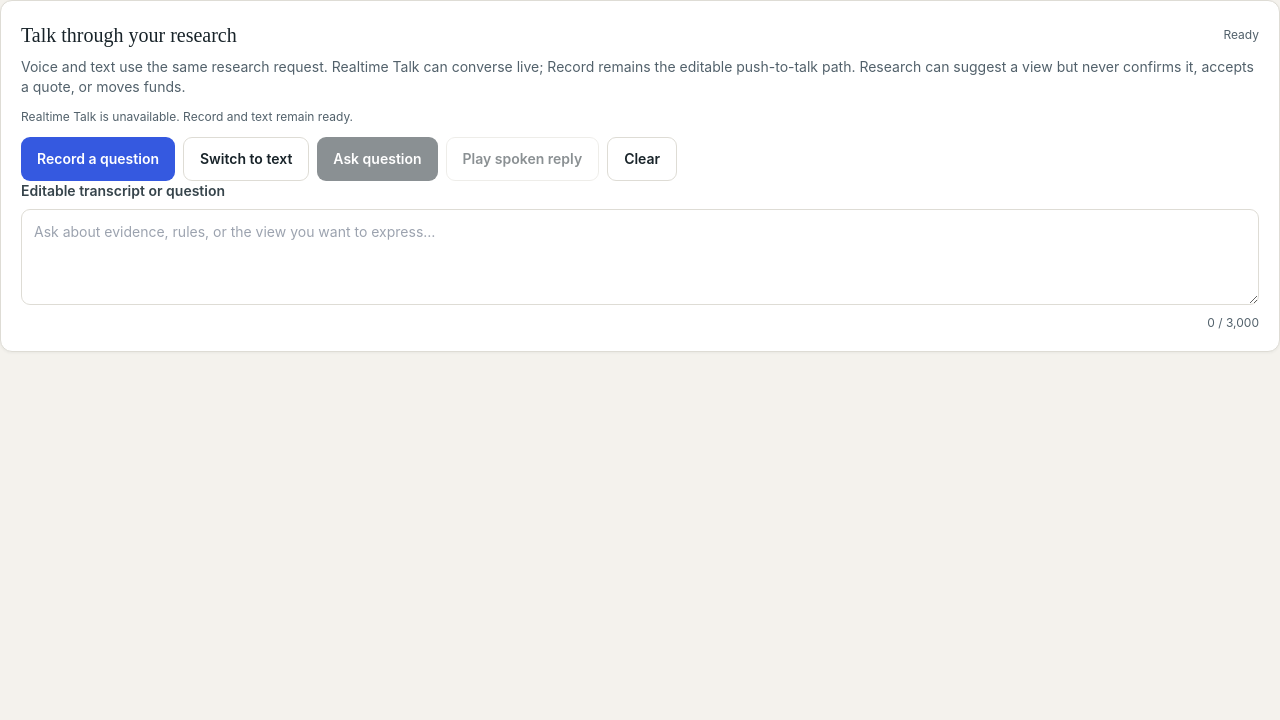
it: VoicePanel interaction flows › recovers from denied microphone permission and sends typed input through research
Click the button "Record a question" at (98, 159), box x1=21 y1=137 x2=175 y2=181
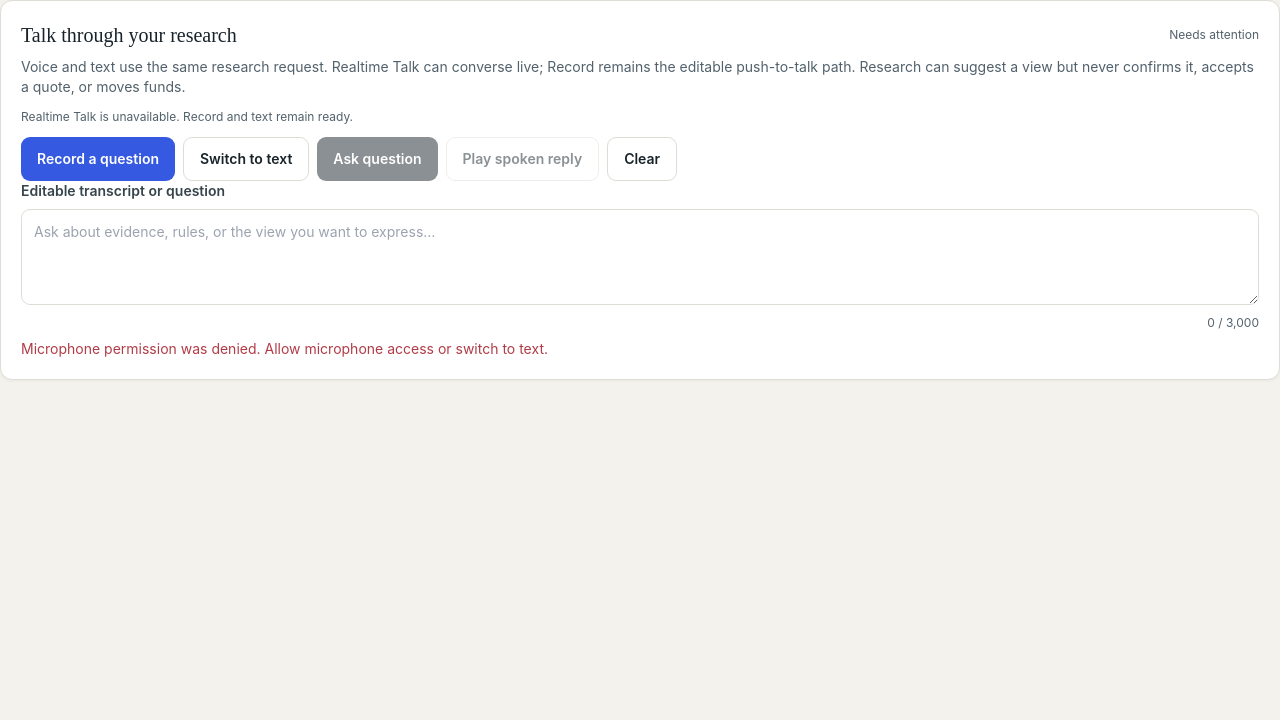
Now the text "Microphone permission was denied. Allow microphone access or switch to text." is shown, box x1=21 y1=340 x2=548 y2=357
Click the button "Switch to text" at (246, 159), box x1=183 y1=137 x2=309 y2=181
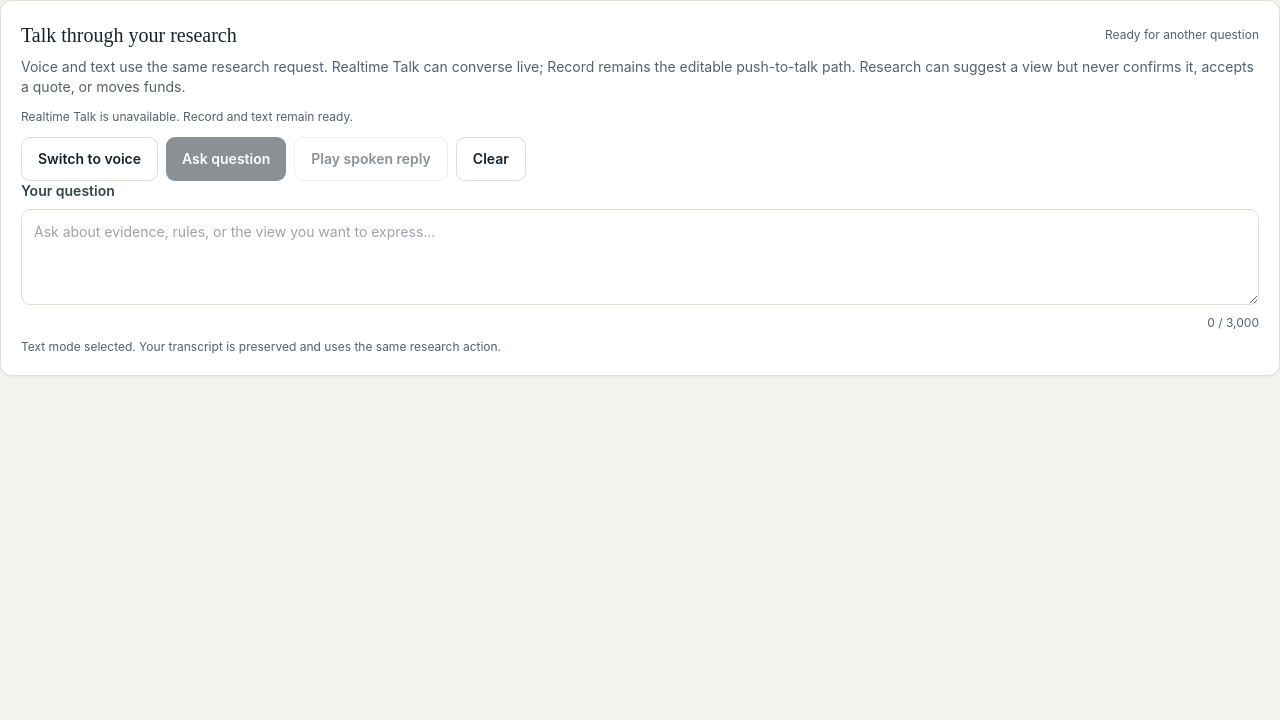
Type "What does Friday settlement mean?" into the text box labelled "Your question" at (640, 257), box x1=21 y1=209 x2=1259 y2=305
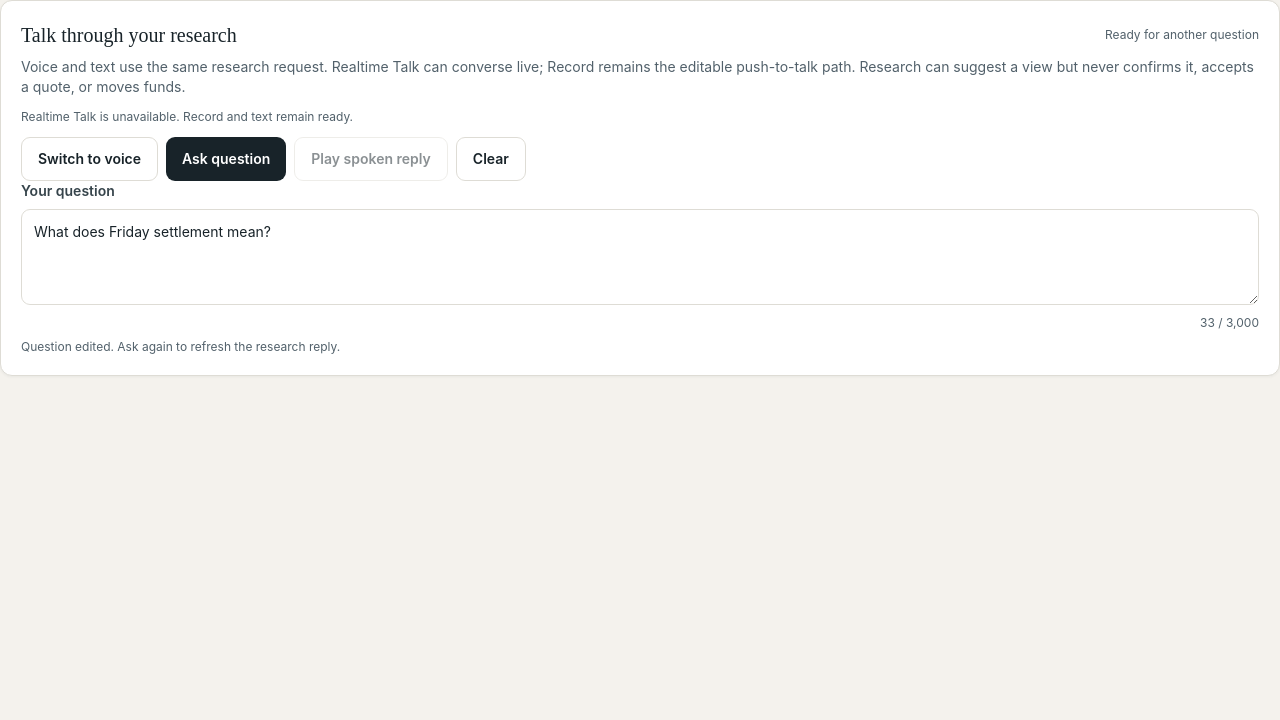
Click the button "Ask question" at (226, 159), box x1=166 y1=137 x2=286 y2=181
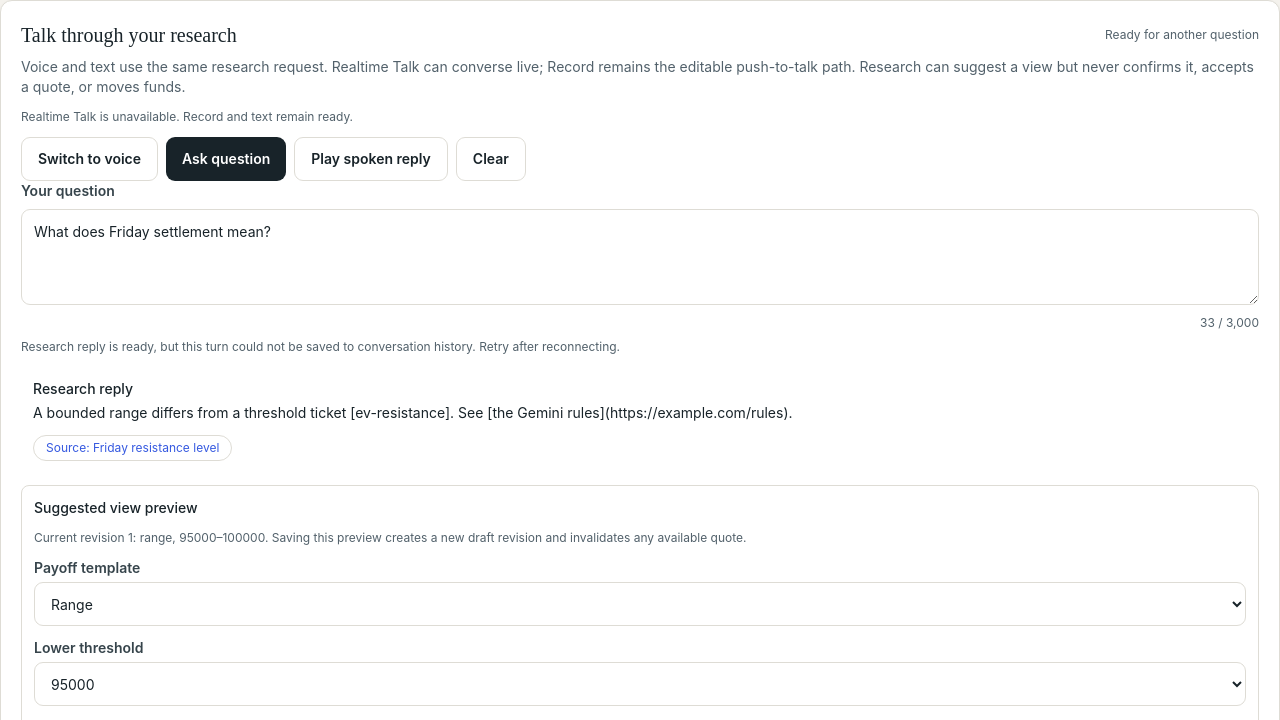
Now the text "A bounded range differs from a threshold ticket [ev-resistance]" is shown, box x1=33 y1=404 x2=793 y2=421
